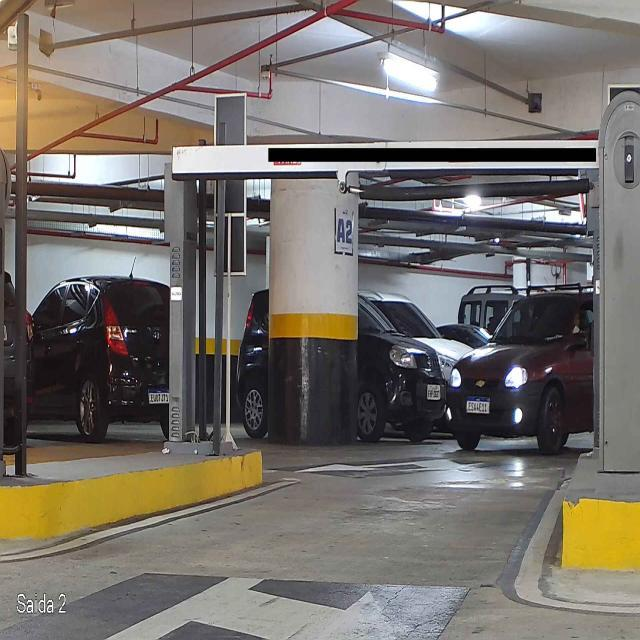mercosul_plate: (465, 396, 491, 415)
